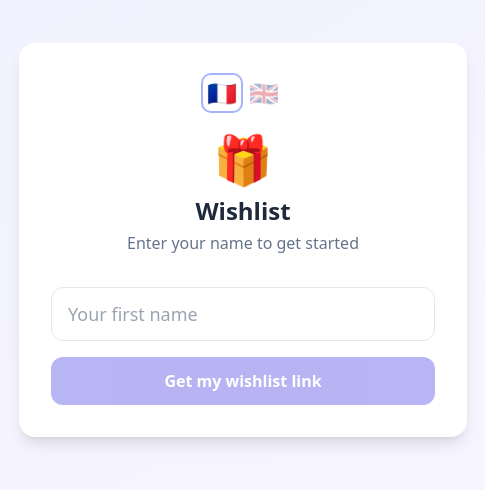
Test case: Register view › step 2 — access link › hides the form and shows greeting after successful registration
In the field with placeholder "Your first name": (243, 314) [51,287,435,341], type "Simon"
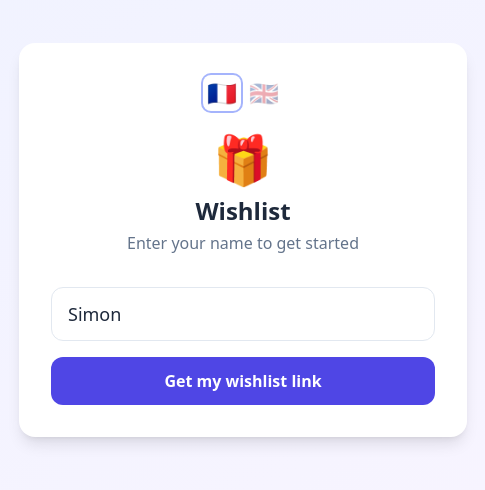
Submit the form, box [51,287,435,405]
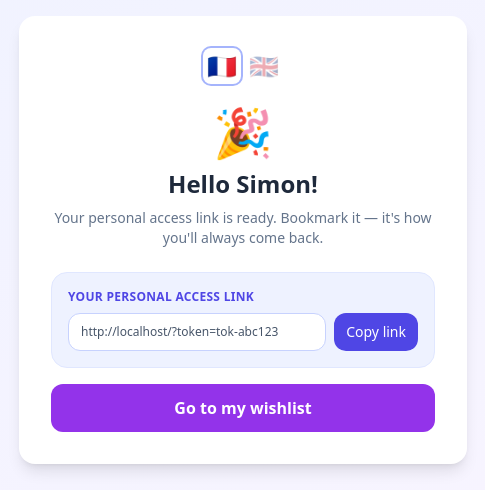
Expected: the text "Simon" is shown, [168,167,318,200]
